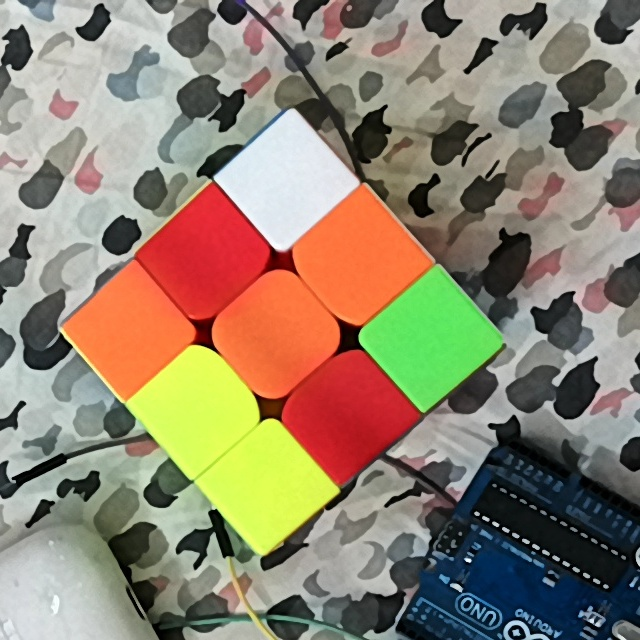tile: (243, 294, 309, 372), (325, 219, 392, 294), (400, 301, 467, 376), (172, 220, 241, 289), (316, 376, 383, 447), (93, 298, 163, 364), (251, 145, 315, 217), (236, 450, 302, 518), (164, 376, 228, 443)
